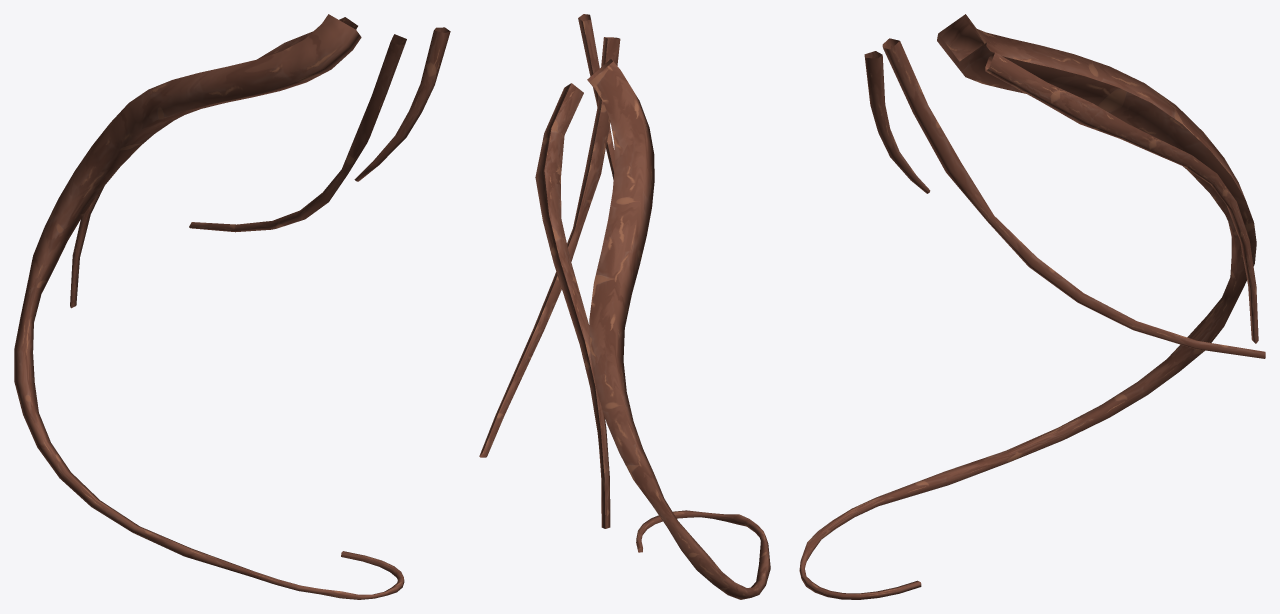
3 views of the same model, side by side, from view 1: azimuth 30°, elevation 25°; view 2: azimuth 150°, elevation 25°; view 3: azimuth 270°, elevation 25° (orthographic). The views are drawn at different scales.
Visible parts, largest first — view 1: BézierCurve; view 2: BézierCurve; view 3: BézierCurve.
Boxes of the visible parts, bbox=[...] form: BézierCurve: bbox=[14, 14, 450, 599]; BézierCurve: bbox=[479, 14, 770, 599]; BézierCurve: bbox=[799, 14, 1265, 599].
Size of the model in its own units: 526 by 922 by 675.
